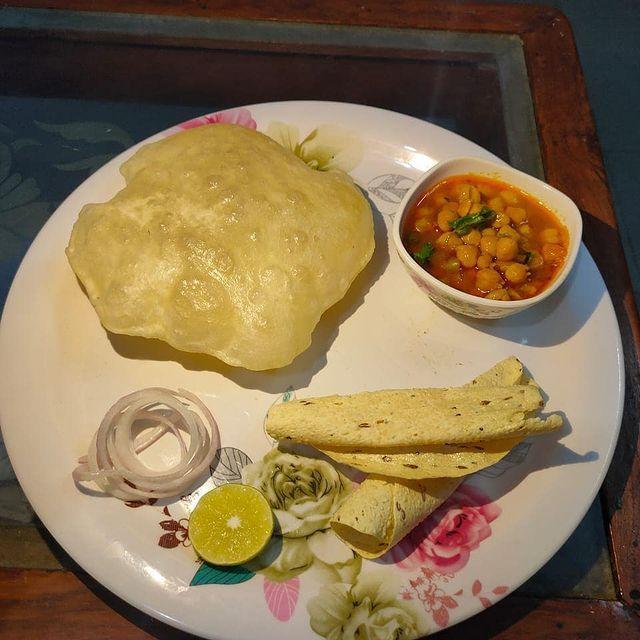Chole: (408, 170, 558, 304)
